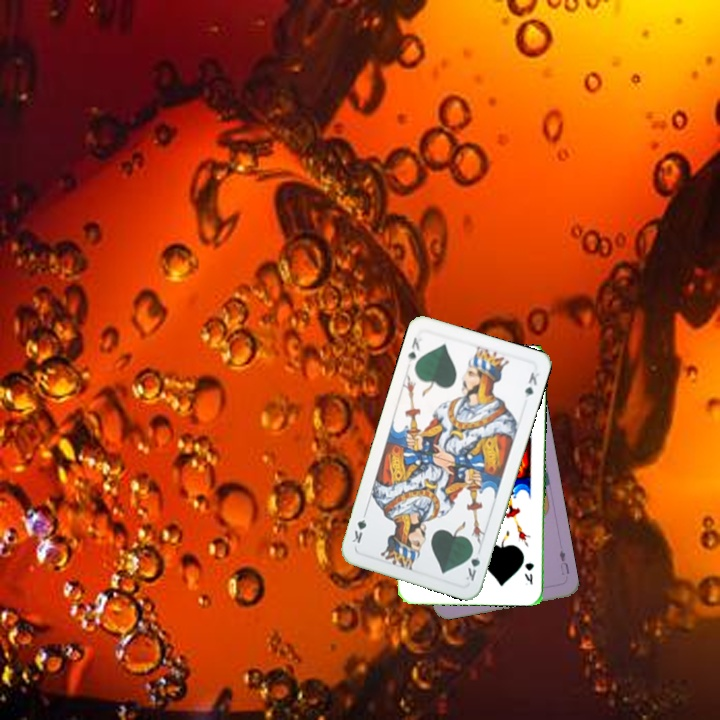EU: (555, 546, 572, 578)
GK: (462, 544, 483, 583), (404, 333, 425, 366), (521, 559, 536, 587)
